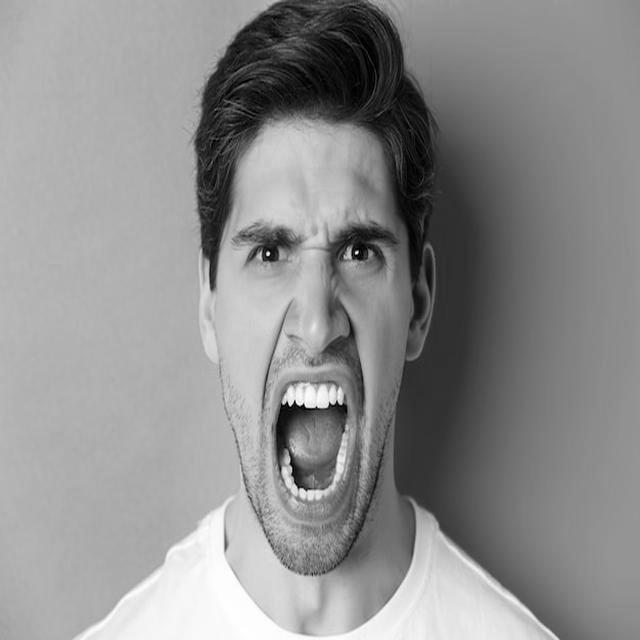Angry: (212, 121, 410, 575)
